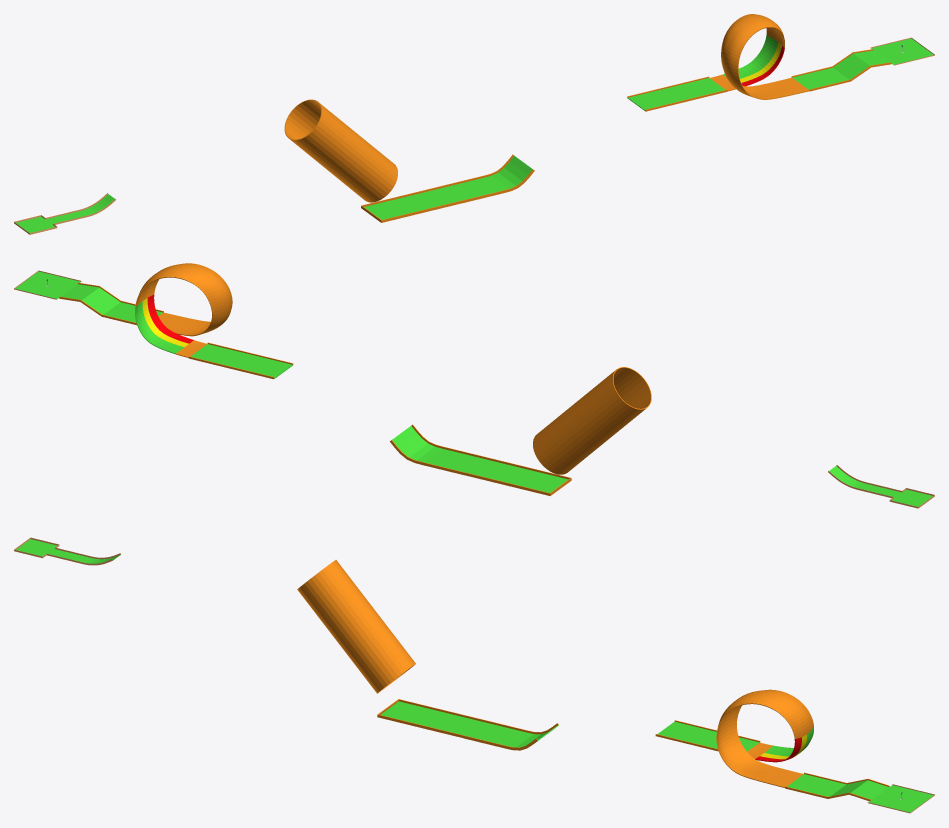
Rendered from m-golf-holes-003.glb.
The picture shows the model from 3 angles, top to bottom: view 1: azimuth 30°, elevation 25°; view 2: azimuth 150°, elevation 25°; view 3: azimuth 330°, elevation 25°; orthographic projection. The views are drawn at different scales.
Visible parts, largest first — view 1: 4_Tunnel_Polar_Spring_Visual, 4_Loop_Visual, 4_Track2_Visual, 4_TZunnel_Visual, 4_Post_Loop_Visual, 4_Pre_Loop_Visual, 4_Hole_Visual, 4_Track1_Visual, 4_Start_Visual; view 2: 4_Tunnel_Polar_Spring_Visual, 4_Loop_Visual, 4_Track2_Visual, 4_TZunnel_Visual, 4_Pre_Loop_Visual, 4_Post_Loop_Visual, 4_Hole_Visual, 4_Track1_Visual, 4_Start_Visual; view 3: 4_Tunnel_Polar_Spring_Visual, 4_Loop_Visual, 4_TZunnel_Visual, 4_Post_Loop_Visual, 4_Track2_Visual, 4_Pre_Loop_Visual, 4_Hole_Visual, 4_Track1_Visual.
Boxes of the visible parts, left/top/right/bottom form: 4_Tunnel_Polar_Spring_Visual: left=284, top=99, right=397, bottom=202; 4_Loop_Visual: left=710, top=14, right=809, bottom=99; 4_Track2_Visual: left=443, top=154, right=534, bottom=202; 4_TZunnel_Visual: left=361, top=185, right=463, bottom=222; 4_Post_Loop_Visual: left=791, top=49, right=891, bottom=91; 4_Pre_Loop_Visual: left=627, top=76, right=727, bottom=111; 4_Hole_Visual: left=870, top=37, right=934, bottom=65; 4_Track1_Visual: left=45, top=193, right=115, bottom=224; 4_Start_Visual: left=14, top=215, right=57, bottom=234; 4_Tunnel_Polar_Spring_Visual: left=533, top=367, right=651, bottom=474; 4_Loop_Visual: left=135, top=263, right=232, bottom=357; 4_Track2_Visual: left=390, top=424, right=485, bottom=474; 4_TZunnel_Visual: left=464, top=457, right=571, bottom=495; 4_Pre_Loop_Visual: left=188, top=342, right=293, bottom=379; 4_Post_Loop_Visual: left=59, top=282, right=163, bottom=325; 4_Hole_Visual: left=14, top=270, right=81, bottom=299; 4_Track1_Visual: left=828, top=465, right=902, bottom=498; 4_Start_Visual: left=889, top=488, right=934, bottom=508; 4_Tunnel_Polar_Spring_Visual: left=297, top=560, right=415, bottom=693; 4_Loop_Visual: left=716, top=689, right=813, bottom=787; 4_TZunnel_Visual: left=377, top=699, right=484, bottom=737; 4_Post_Loop_Visual: left=785, top=772, right=889, bottom=801; 4_Track2_Visual: left=463, top=720, right=558, bottom=750; 4_Pre_Loop_Visual: left=655, top=720, right=760, bottom=751; 4_Hole_Visual: left=867, top=784, right=934, bottom=813; 4_Track1_Visual: left=46, top=547, right=120, bottom=565.
Size of what is drawn, in the model's own units: 130 by 17.9 by 11.25.
13 materials, 1 textured.
